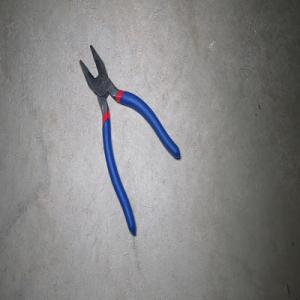Pliers: (79, 44, 180, 236)
